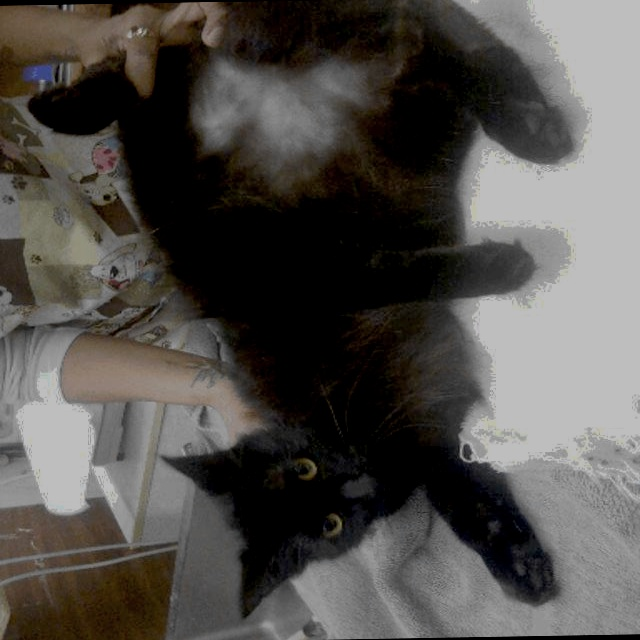hairloss: (198, 57, 368, 157)
